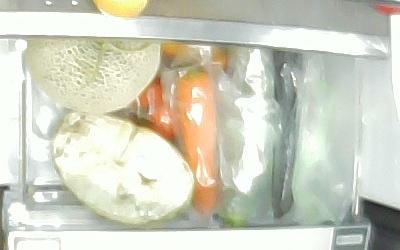cabbage: (51, 110, 194, 224)
carrot_vinyl: (174, 67, 220, 213)
eggplant_vinyl: (264, 50, 304, 220)
melon: (26, 38, 161, 115)
tomato_vinyl: (137, 78, 178, 139)
